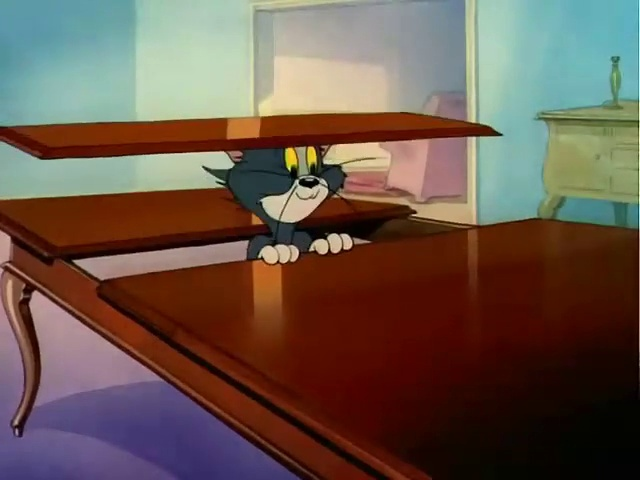tom: (199, 119, 369, 287)
